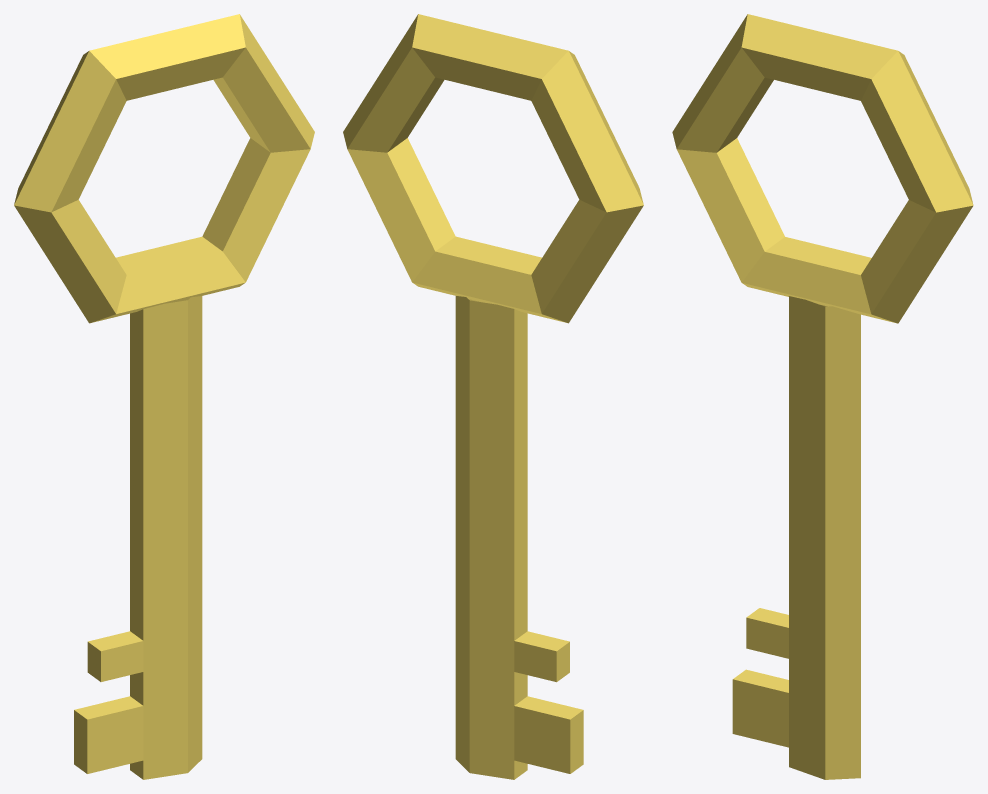
The model's file is low-poly-key.gltf.
3 renders of one model, left to right at view 1: azimuth 30°, elevation 25°; view 2: azimuth 150°, elevation 25°; view 3: azimuth 330°, elevation 25°, orthographic.
Visible parts, largest first — view 1: Torus_1; view 2: Torus_1; view 3: Torus_1.
Boxes of the visible parts, left/top/right/bottom form: Torus_1: left=14, top=14, right=314, bottom=779; Torus_1: left=343, top=14, right=643, bottom=779; Torus_1: left=672, top=14, right=973, bottom=779.
Size of the model in its own units: 80 by 187 by 15.22.
